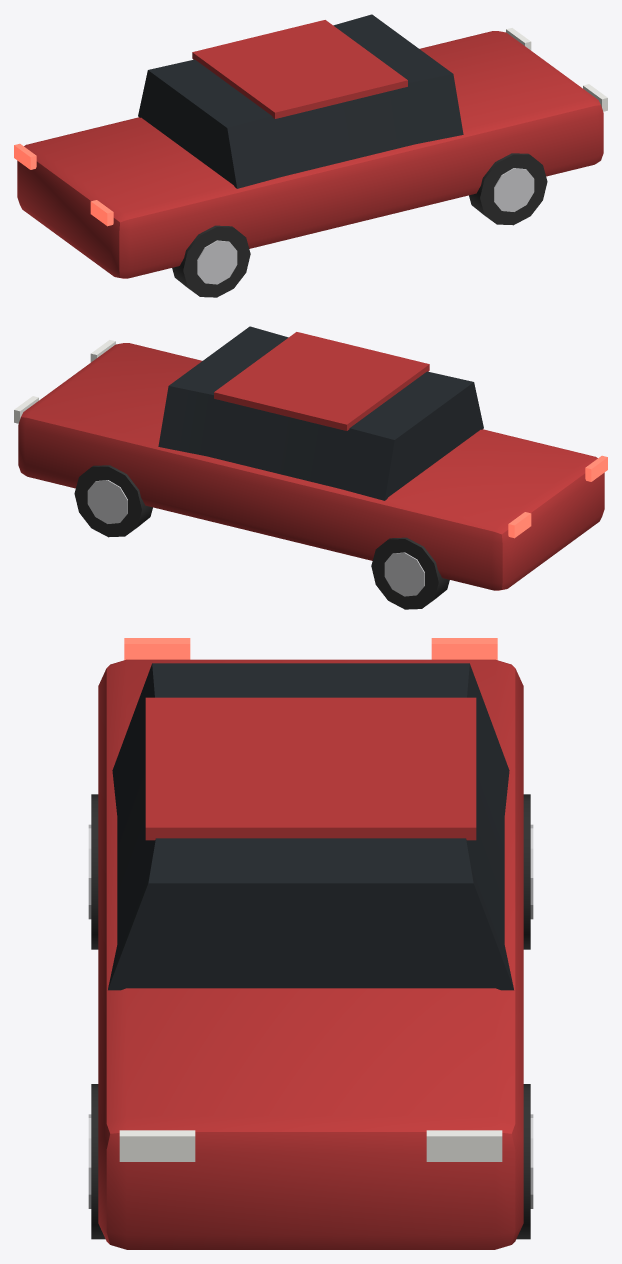
Rendered from SM_Car_Sedan_Red.fbx.
The picture shows the model from 3 angles, top to bottom: view 1: azimuth 30°, elevation 25°; view 2: azimuth 150°, elevation 25°; view 3: azimuth 270°, elevation 25°; orthographic projection. The views are drawn at different scales.
Visible parts, largest first — view 1: SM_Car_Sedan_Red; view 2: SM_Car_Sedan_Red; view 3: SM_Car_Sedan_Red.
Boxes of the visible parts, <box> form: SM_Car_Sedan_Red: <box>14,14,607,297</box>; SM_Car_Sedan_Red: <box>14,326,607,609</box>; SM_Car_Sedan_Red: <box>88,638,533,1249</box>.
Bounding box in the file's own units: 488 × 147 × 188.
